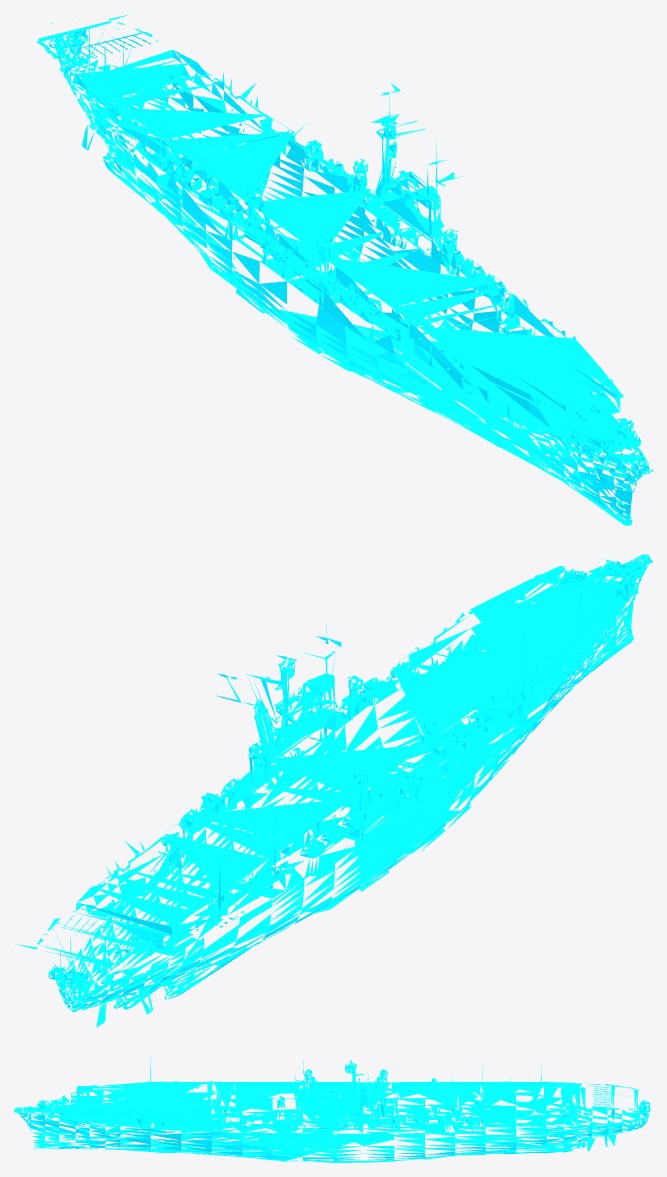
Rendered from Manfred_Richthofen.glb.
The picture shows the model from 3 angles, top to bottom: view 1: azimuth 30°, elevation 25°; view 2: azimuth 150°, elevation 25°; view 3: azimuth 270°, elevation 25°; orthographic projection. The views are drawn at different scales.
Size of the model in its own units: 3.24 by 3.36 by 18.61.
